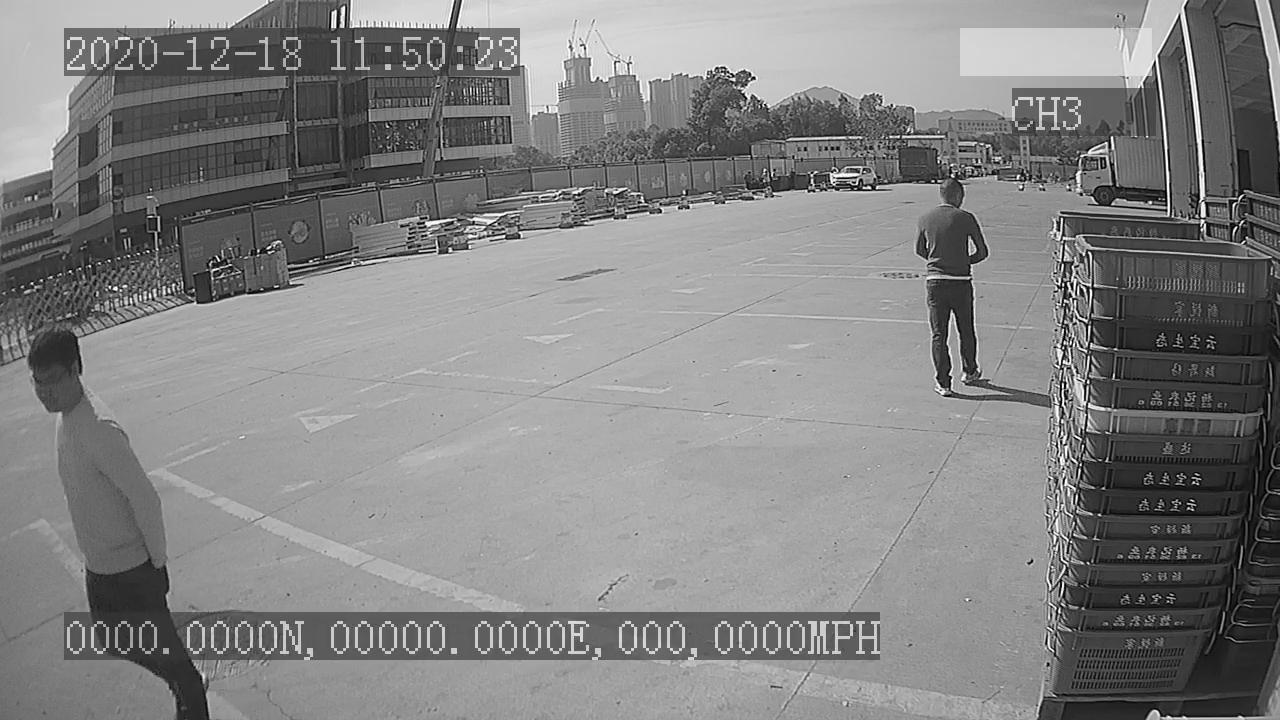person: (911, 176, 992, 401)
